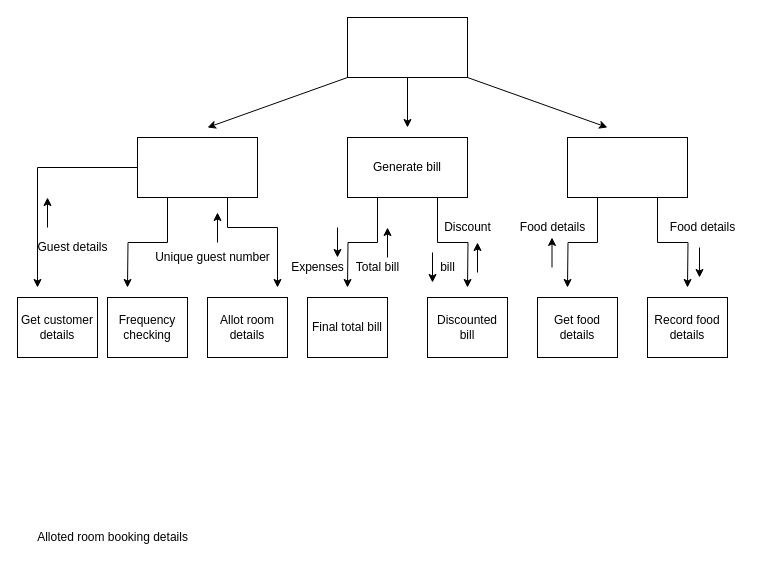
Some shapes in this 760 by 565 pixel diagram are drawn without their labels. Each missing label, with the box of its shape:
Register food services: (566, 136, 688, 198)
Register Guest: (136, 136, 258, 198)
ROOT: (346, 16, 468, 78)
